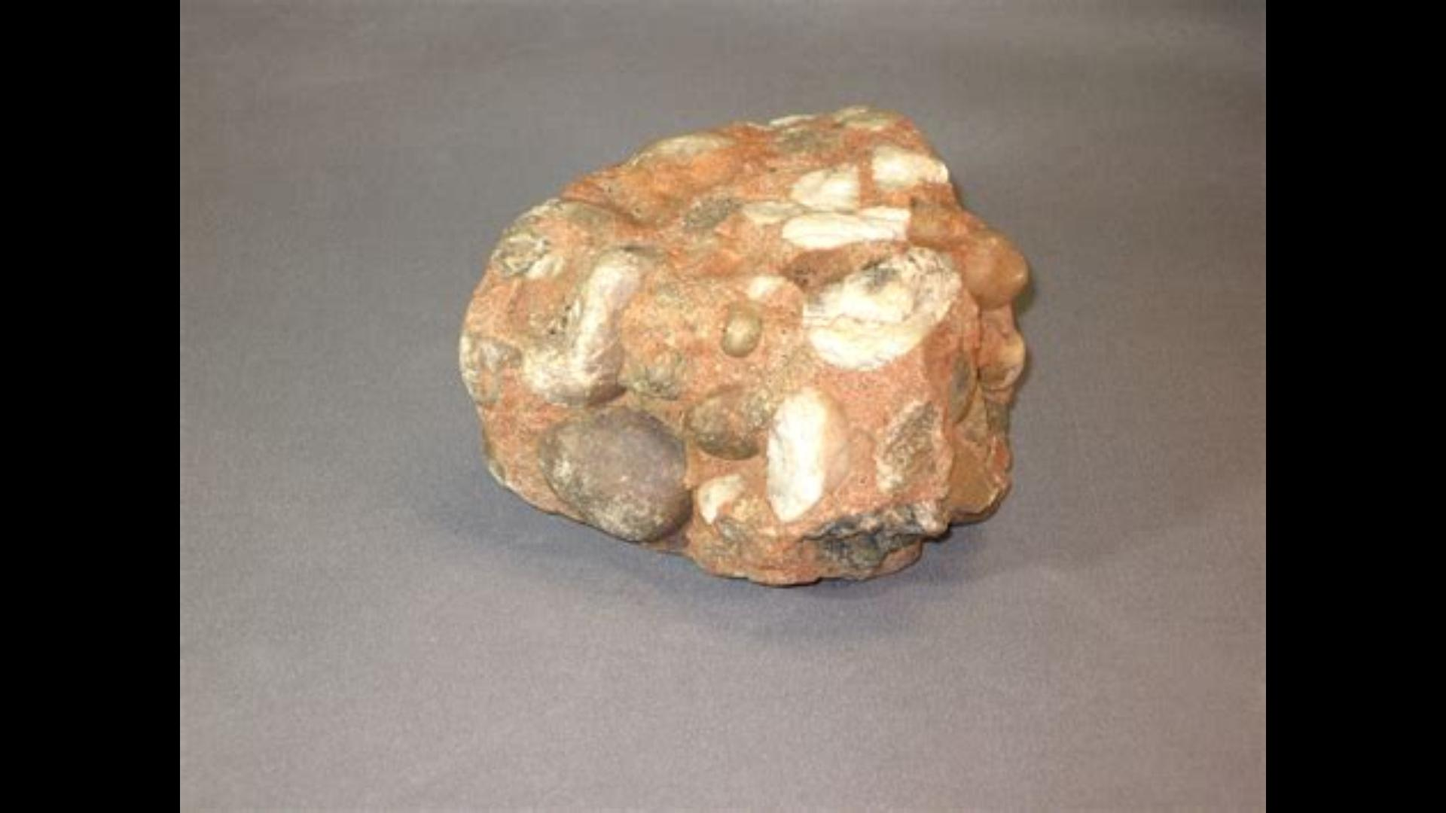rock: (460, 108, 1025, 575)
